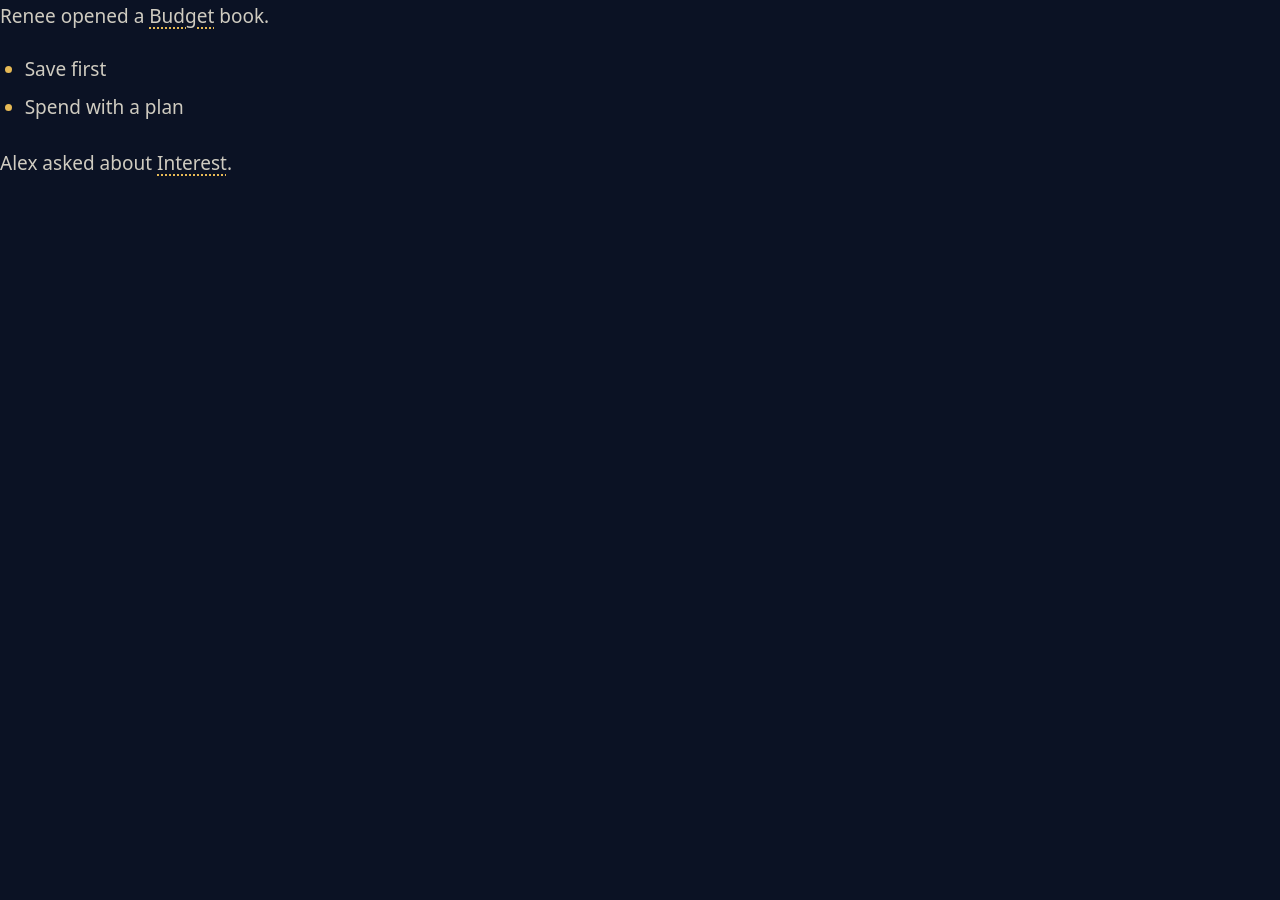
it: StoryBody › opens a definition from the glossary
This screenshot has width=1280, height=900.
Click the button "Budget": (182,17) [149,0,214,33]
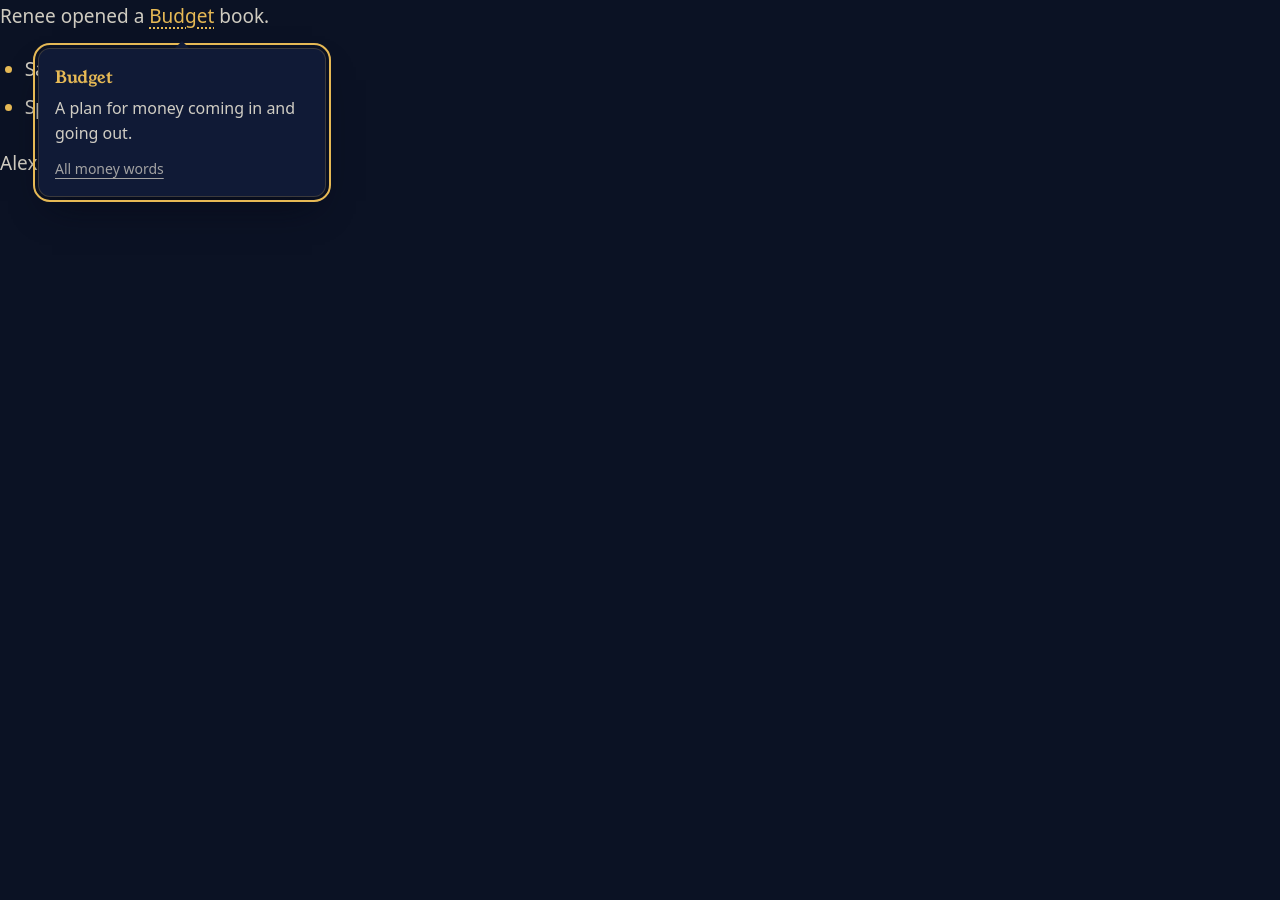
Now the link "All money words" is shown, box [55,158,164,179]
